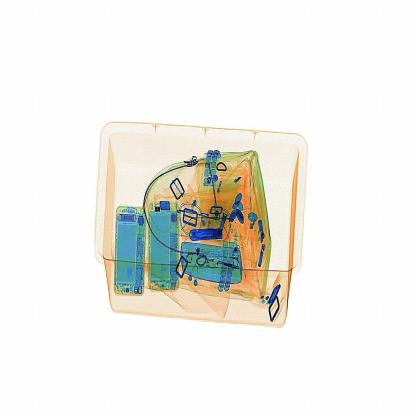knife: (181, 222, 233, 244)
